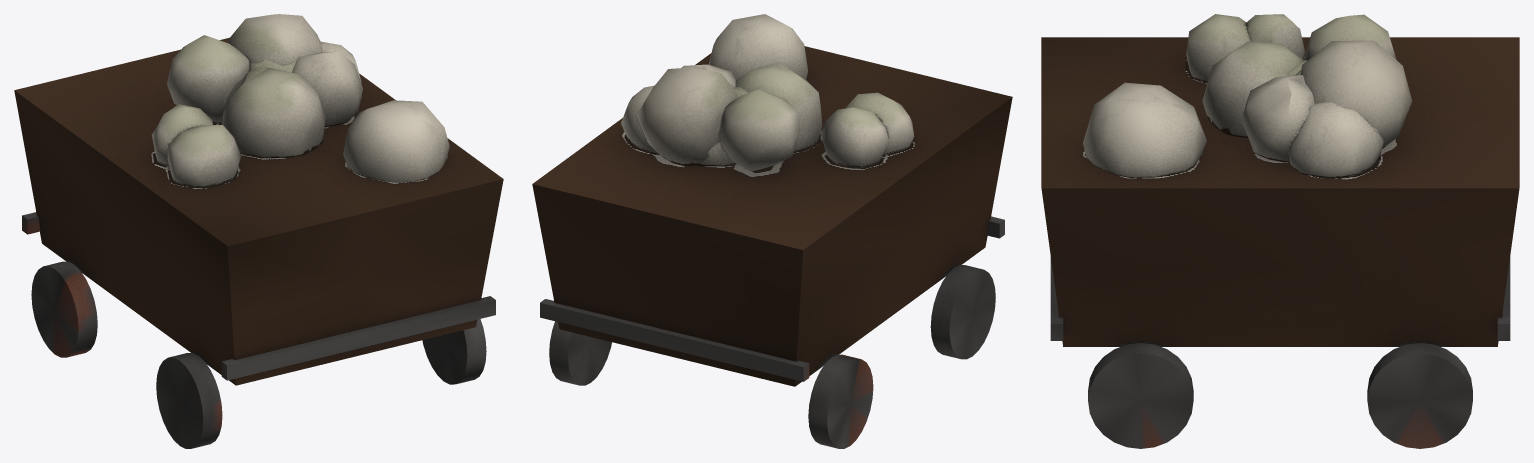
File: cenario_vagonete.glb
3 renders of one model, left to right at view 1: azimuth 30°, elevation 25°; view 2: azimuth 150°, elevation 25°; view 3: azimuth 270°, elevation 25°, orthographic. The views are drawn at different scales.
Parts seen in each view (by area): view 1: cenario_vagonete; view 2: cenario_vagonete; view 3: cenario_vagonete.
Part boxes in pixels (x1,y1,x2,y2): cenario_vagonete: [14, 14, 503, 448]; cenario_vagonete: [532, 14, 1012, 448]; cenario_vagonete: [1041, 14, 1519, 448].
Size of the model in its own units: 1.18 by 1.26 by 1.54.
1 material, 1 textured.
